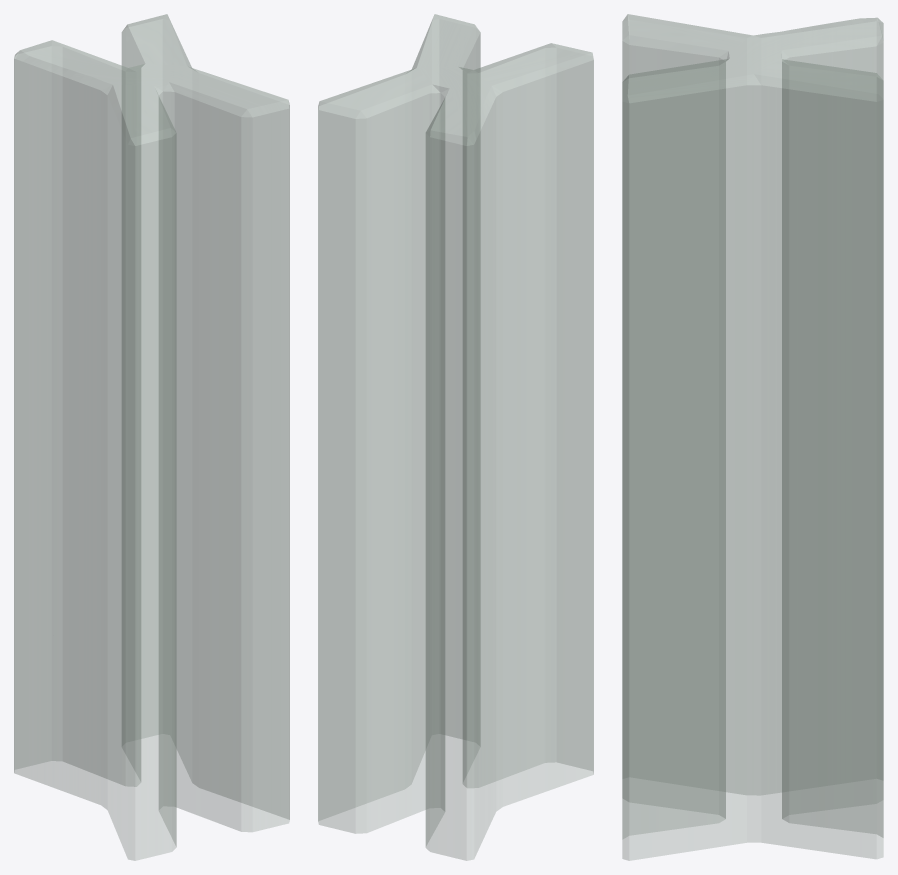
The picture shows the model from 3 angles, left to right: view 1: azimuth 30°, elevation 25°; view 2: azimuth 150°, elevation 25°; view 3: azimuth 270°, elevation 25°; orthographic projection. The views are drawn at different scales.
Visible parts, largest first — view 1: X; view 2: X; view 3: X.
Boxes of the visible parts, <box> form: X: <box>14,14,289,860</box>; X: <box>318,14,593,860</box>; X: <box>622,14,883,860</box>.
Size of the model in its own units: 0.4559 by 1.94 by 0.6019.
Materials: 1 (1 with a texture image).
